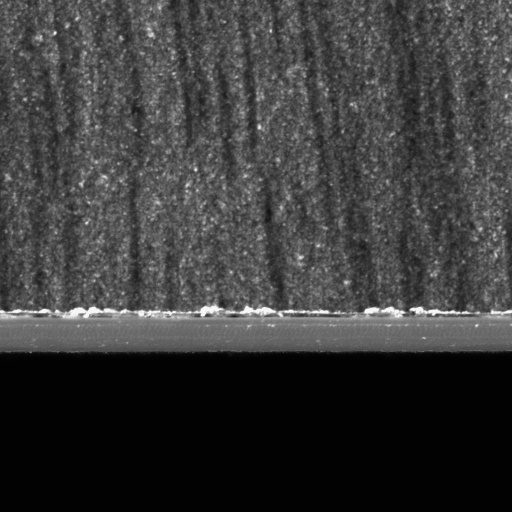jiaofeng: (185, 308, 358, 333), (405, 308, 480, 332)
